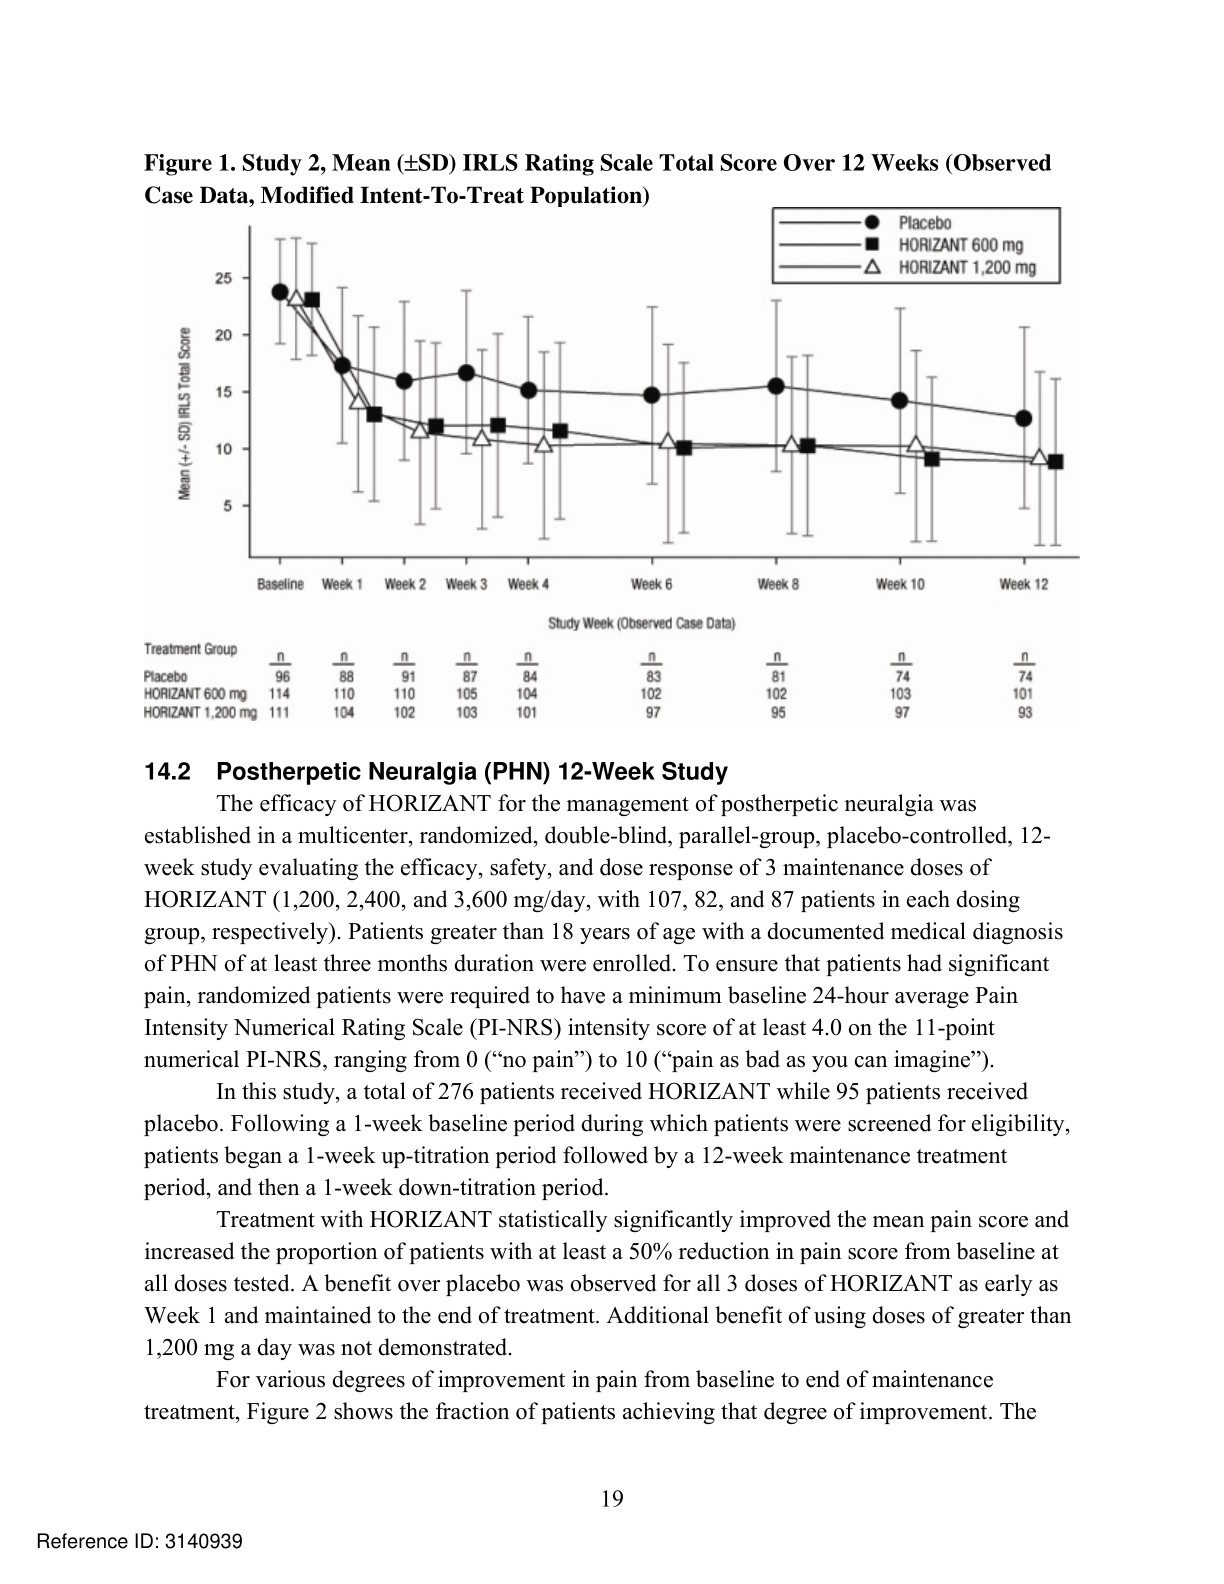nolines: (139, 639, 1041, 724)
